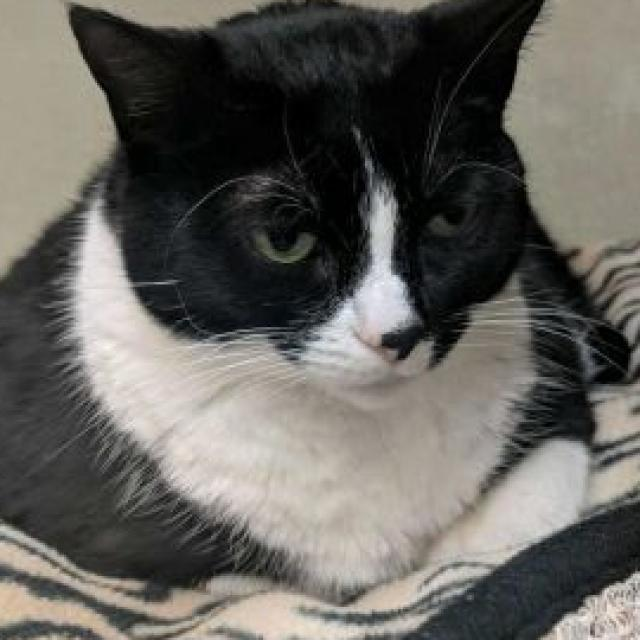Tuxedo: (0, 0, 637, 597)
